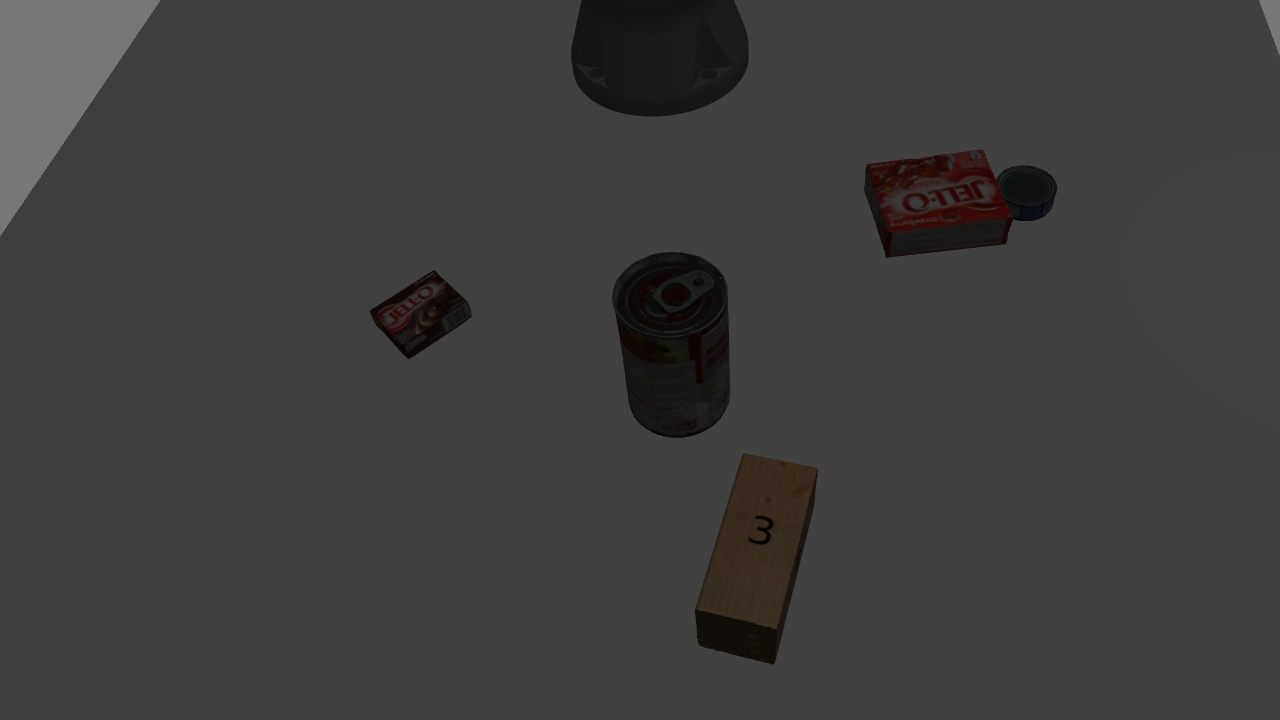gelatin_box: (854, 146, 1017, 272)
pudding_box: (367, 267, 476, 359)
tomato_soup_can: (604, 243, 744, 449)
tuna_fish_can: (995, 159, 1062, 223)
wood_block: (689, 448, 826, 667)
